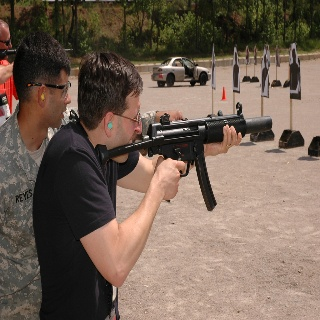rifle: (96, 102, 275, 212)
